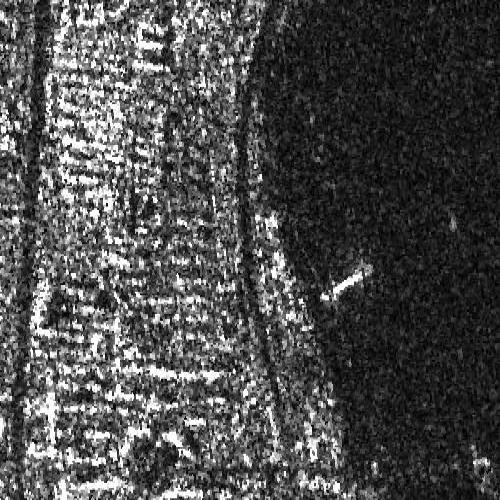ship: (318, 263, 374, 302)
